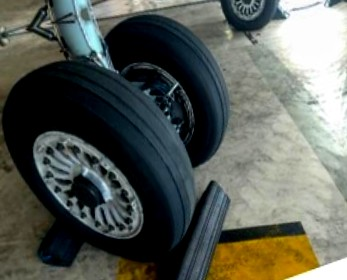chock: (133, 174, 258, 280), (23, 197, 113, 276), (269, 1, 293, 25), (320, 0, 343, 11)
wheel: (0, 37, 208, 280), (93, 0, 246, 185), (215, 0, 291, 39)
